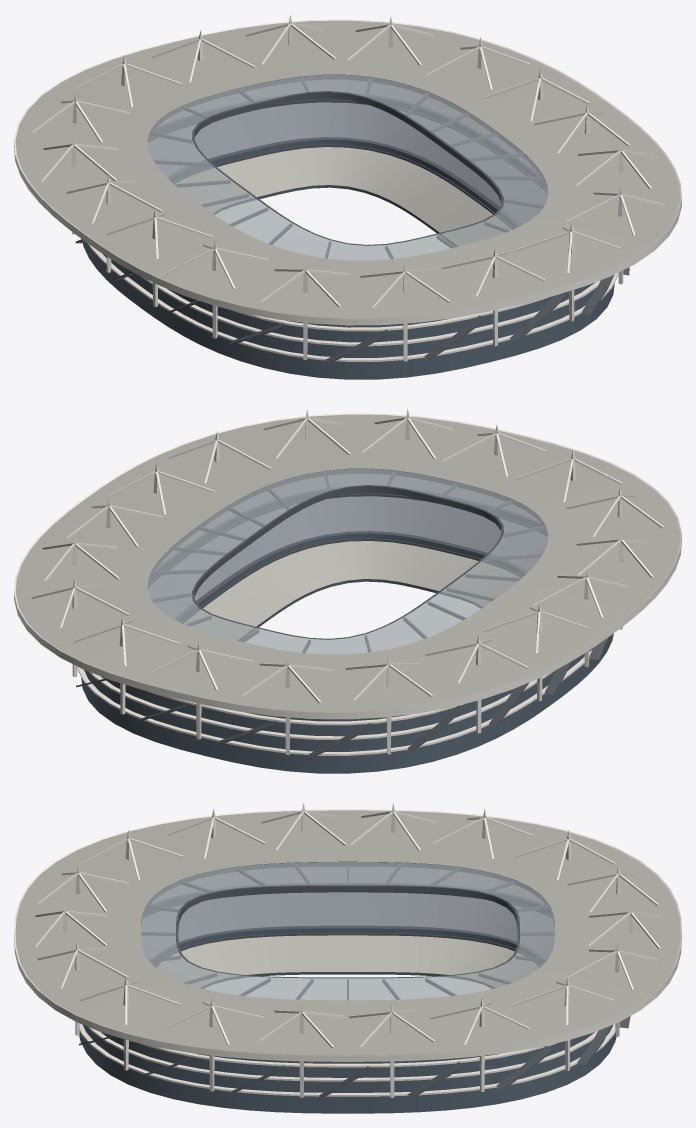
File: paris-stade-de-france.glb
3 renders of one model, top to bottom at view 1: azimuth 30°, elevation 25°; view 2: azimuth 150°, elevation 25°; view 3: azimuth 270°, elevation 25°, orthographic. The views are drawn at different scales.
Visible parts, largest first — view 1: Stade de France; view 2: Stade de France; view 3: Stade de France.
Boxes of the visible parts, left/top/right/bottom form: Stade de France: left=14, top=14, right=681, bottom=379; Stade de France: left=14, top=409, right=681, bottom=773; Stade de France: left=14, top=803, right=681, bottom=1113.
Bounding box in the file's own units: 281 × 61 × 322.
